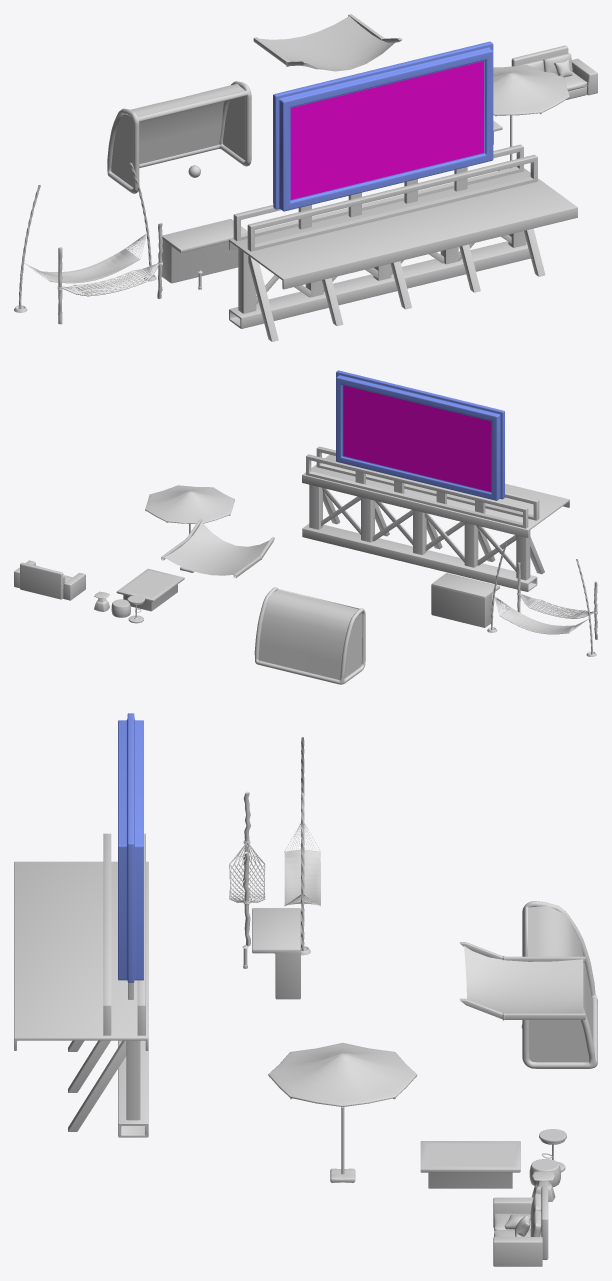
The model's file is Rooftop_Decorations_Misc01.fbx.
3 views of the same model, one above another, from view 1: azimuth 30°, elevation 25°; view 2: azimuth 150°, elevation 25°; view 3: azimuth 270°, elevation 25° (orthographic). The views are drawn at different scales.
Parts seen in each view (by area): view 1: Billboard_Sign, Billboard_Stand, GoalKeepNet_Low, Billboard_Bar_Back, Suicidenet_Net, Bar_Table, Umbrella_Top, GoalKeep_Low, Billboard_Bar_Front, Hammock02, GoalKeepNet_R_Low, Hammock01 (+5 smaller); view 2: Billboard_Sign, Billboard_Stand, GoalKeepNet_Low, Suicidenet_Net, Bar_Table, Umbrella_Top, Billboard_Bar_Front, GoalKeep_Low, Lower_Table, Billboard_Bar_Back, Couch_Back, Hammock02 (+3 smaller); view 3: Billboard_Stand, Umbrella_Top, Billboard_Sign, Suicidenet_Net, Lower_Table, Bar_Table, GoalKeepNet_Low, GoalKeep_Low, GoalKeepNet_L_Low, Hammock02, Billboard_Bar_Back, Couch_Side_L (+4 smaller).
Part boxes in pixels (bbox=[...]): Billboard_Sign: bbox=[273, 41, 493, 211]; Billboard_Stand: bbox=[229, 168, 577, 341]; GoalKeepNet_Low: bbox=[130, 83, 244, 164]; Billboard_Bar_Back: bbox=[247, 154, 537, 251]; Suicidenet_Net: bbox=[259, 16, 396, 71]; Bar_Table: bbox=[161, 219, 247, 283]; Umbrella_Top: bbox=[493, 65, 569, 115]; GoalKeep_Low: bbox=[107, 81, 251, 193]; Billboard_Bar_Front: bbox=[233, 144, 523, 241]; Hammock02: bbox=[24, 233, 146, 283]; GoalKeepNet_R_Low: bbox=[111, 114, 133, 187]; Hammock01: bbox=[63, 263, 158, 296]; Billboard_Sign: bbox=[336, 370, 504, 500]; Billboard_Stand: bbox=[302, 454, 569, 591]; GoalKeepNet_Low: bbox=[258, 589, 358, 679]; Suicidenet_Net: bbox=[164, 522, 269, 575]; Bar_Table: bbox=[431, 573, 499, 627]; Umbrella_Top: bbox=[145, 485, 234, 523]; Billboard_Bar_Front: bbox=[306, 454, 528, 528]; GoalKeep_Low: bbox=[254, 587, 365, 684]; Lower_Table: bbox=[116, 568, 184, 611]; Billboard_Bar_Back: bbox=[316, 446, 539, 520]; Couch_Back: bbox=[20, 562, 63, 599]; Hammock02: bbox=[494, 596, 588, 634]; Billboard_Stand: bbox=[14, 861, 148, 1137]; Umbrella_Top: bbox=[268, 1042, 417, 1106]; Billboard_Sign: bbox=[118, 713, 143, 982]; Suicidenet_Net: bbox=[464, 946, 583, 1013]; Lower_Table: bbox=[420, 1141, 520, 1188]; Bar_Table: bbox=[252, 908, 300, 999]; GoalKeepNet_Low: bbox=[528, 906, 591, 1035]; GoalKeep_Low: bbox=[522, 901, 597, 1068]; GoalKeepNet_L_Low: bbox=[529, 1020, 589, 1062]; Hammock02: bbox=[284, 823, 320, 906]; Billboard_Bar_Back: bbox=[103, 833, 111, 1035]; Couch_Side_L: bbox=[493, 1237, 542, 1266].
Bounding box in the file's own units: 18855 × 6099 × 11737.
